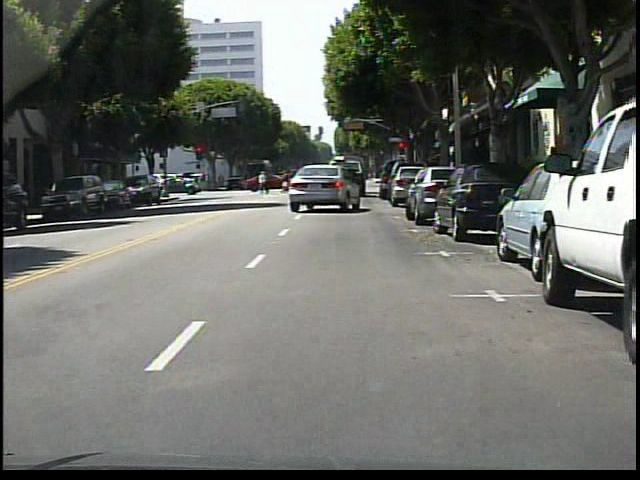person: (543, 145, 569, 202), (282, 168, 293, 195), (258, 171, 270, 195), (262, 173, 268, 188)
